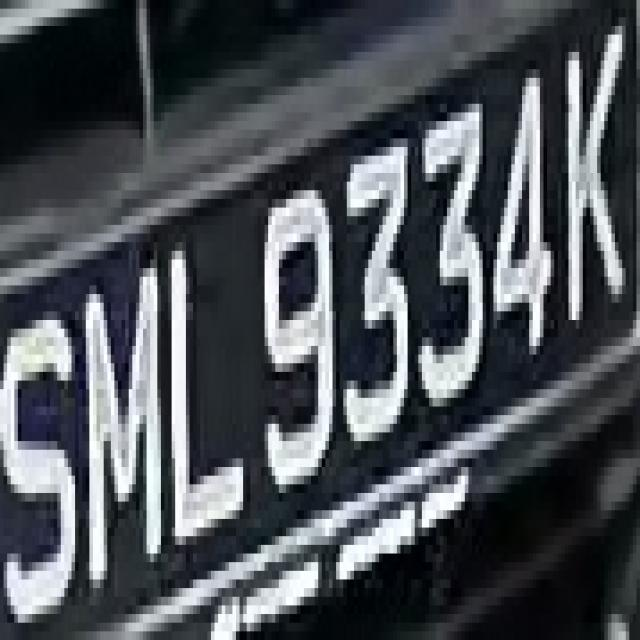3: (404, 86, 486, 424), (336, 130, 415, 467)
4: (479, 52, 554, 372)
9: (250, 156, 344, 493)
K: (550, 0, 632, 346)
L: (157, 199, 250, 553)
M: (72, 234, 172, 606)
